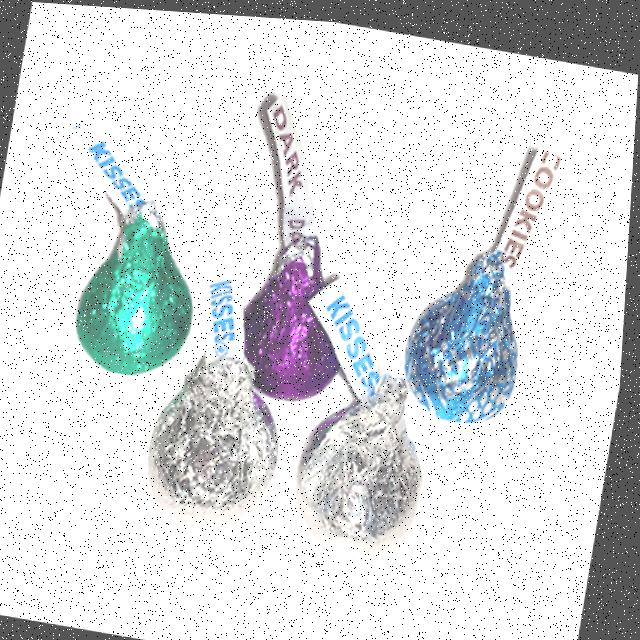kisses: (263, 254, 473, 607), (131, 257, 314, 539)
